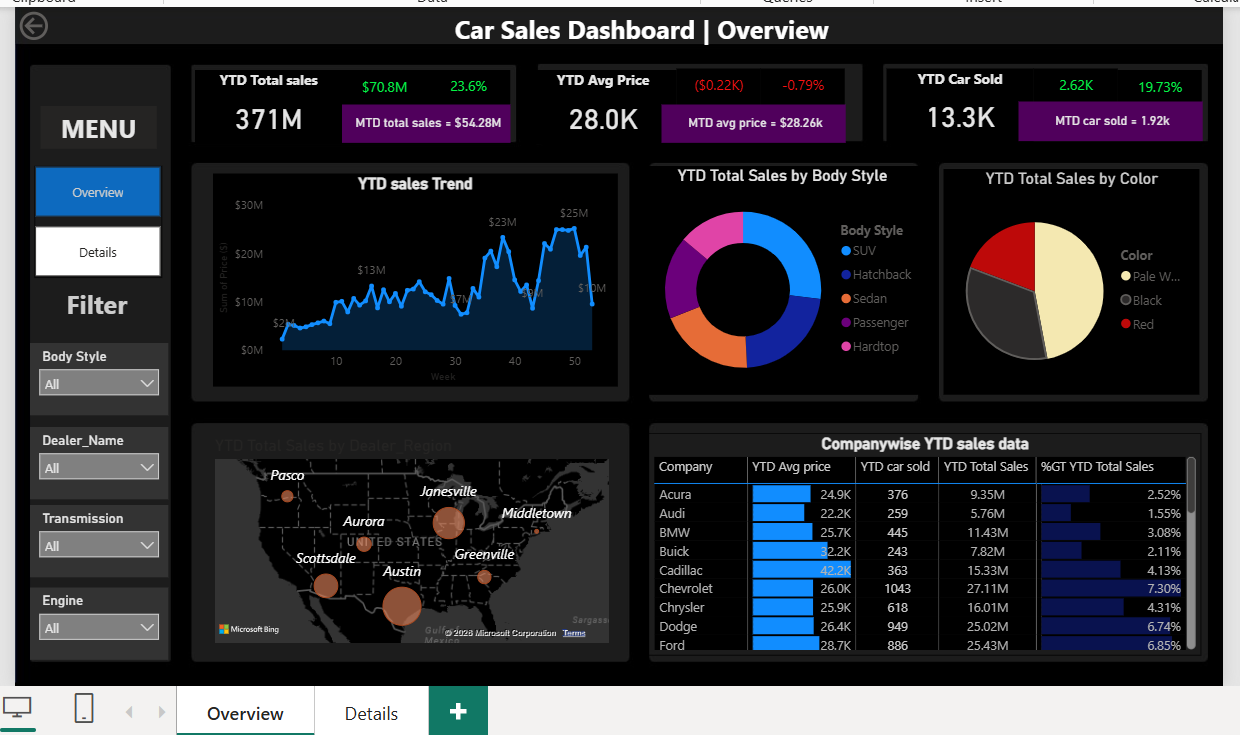

Layout of this report page (visuals, bound fields, positions):
{"tool":"powerbi","page":{"name":" Overview","canvas":[1280,720],"ordinal":0},"visuals":[{"type":"card","title":"YTD Total sales","fields":{"Values":["car_data.YTD Total Sales"]},"box":[190.3,66.7,156.1,78.1],"z":0},{"type":"card","fields":{"Values":["car_data.Sales Difference"]},"box":[346.5,66.7,89.5,39],"z":1000},{"type":"card","fields":{"Values":["car_data.YoY sales Growth"]},"box":[435.9,66.7,89.5,37.4],"z":2000},{"type":"card","fields":{"Values":["car_data.MTD"]},"box":[346.5,104.1,178.9,40.7],"z":3000},{"type":"card","title":"YTD Avg Price","fields":{"Values":["car_data.YTD Avg price"]},"box":[544.9,66.7,156.1,78.1],"z":4000},{"type":"card","fields":{"Values":["car_data.Price diffence"]},"box":[701,65.1,89.5,39],"z":5000},{"type":"card","fields":{"Values":["car_data.YoY avg price growth"]},"box":[790.5,65.1,89.5,39],"z":6000},{"type":"card","fields":{"Values":["car_data.MTD avg price kpi"]},"box":[684.8,104.1,195.2,40.7],"z":7000},{"type":"card","title":"YTD Car Sold","fields":{"Values":["car_data.YTD car sold"]},"box":[923.9,65.1,156.1,78.1],"z":8000},{"type":"card","fields":{"Values":["car_data.Car sold difference"]},"box":[1080,65.1,89.5,39],"z":9000},{"type":"card","fields":{"Values":["car_data.YoY car sold growth"]},"box":[1169.5,66.7,89.5,39],"z":10000},{"type":"card","fields":{"Values":["car_data.MTD car sold kpi"]},"box":[1063.8,100.8,195.2,42.3],"z":11000},{"type":"areaChart","title":"YTD sales Trend","fields":{"Category":["calender table.Week"],"Y":["Sum(car_data.Price ($))"]},"box":[209.8,177.3,429.4,226.1],"z":12000},{"type":"pieChart","fields":{"Category":["car_data.Color"],"Y":["car_data.YTD Total Sales"]},"box":[985.1,171.9,271.6,239.1],"z":14000},{"type":"actionButton","box":[0,0,100,40],"z":15000},{"type":"tableEx","title":"Companywise YTD sales data","fields":{"Values":["car_data.Company","car_data.YTD Avg price","car_data.YTD car sold","car_data.YTD Total Sales1","car_data.YTD Total Sales"]},"box":[671.2,452,586.9,236],"z":16000},{"type":"map","fields":{"Category":["car_data.Dealer_Region"],"Size":["car_data.YTD Total Sales"]},"box":[207.1,454.9,427.8,224.5],"z":17000},{"type":"textbox","box":[424.5,0,479.8,50.4],"z":18000},{"type":"slicer","fields":{"Values":["car_data.Body Style"]},"box":[16.3,356.2,146.4,76.4],"z":19000},{"type":"slicer","fields":{"Values":["car_data.Dealer_Name"]},"box":[15.7,444.6,146.4,76.4],"z":20000},{"type":"slicer","fields":{"Values":["car_data.Engine"]},"box":[16.3,615.4,146.4,76.4],"z":21000},{"type":"slicer","fields":{"Values":["car_data.Transmission"]},"box":[16.3,527.5,146.4,76.4],"z":22000},{"type":"textbox","box":[11.4,291.2,151.3,55.3],"z":23000},{"type":"pageNavigator","box":[21.1,169.2,135,118.7],"z":24000},{"type":"textbox","box":[27.7,105.7,123.6,45.5],"z":25000},{"type":"donutChart","fields":{"Y":["car_data.YTD Total Sales"],"Category":["car_data.Body Style"]},"box":[663.6,169.2,300.9,242.4],"z":25001}]}

Visuals, with their boxes on the page's 1280x720 design canvas (x1, y1, x2, y2). These are canvas units, not pixel positions in the 1240x735 screenshot, which may show the page scaled, cropped or inside an application window:
"YTD Total sales" card: BBox(190, 67, 346, 145)
card - car_data.Sales Difference: BBox(346, 67, 436, 106)
card - car_data.YoY sales Growth: BBox(436, 67, 525, 104)
card - car_data.MTD: BBox(346, 104, 525, 145)
"YTD Avg Price" card: BBox(545, 67, 701, 145)
card - car_data.Price diffence: BBox(701, 65, 790, 104)
card - car_data.YoY avg price growth: BBox(790, 65, 880, 104)
card - car_data.MTD avg price kpi: BBox(685, 104, 880, 145)
"YTD Car Sold" card: BBox(924, 65, 1080, 143)
card - car_data.Car sold difference: BBox(1080, 65, 1170, 104)
card - car_data.YoY car sold growth: BBox(1170, 67, 1259, 106)
card - car_data.MTD car sold kpi: BBox(1064, 101, 1259, 143)
"YTD sales Trend" areaChart: BBox(210, 177, 639, 403)
pieChart - car_data.Color x car_data.YTD Total Sales: BBox(985, 172, 1257, 411)
actionButton: BBox(0, 0, 100, 40)
"Companywise YTD sales data" tableEx: BBox(671, 452, 1258, 688)
map - car_data.Dealer_Region x car_data.YTD Total Sales: BBox(207, 455, 635, 679)
textbox: BBox(424, 0, 904, 50)
slicer - car_data.Body Style: BBox(16, 356, 163, 433)
slicer - car_data.Dealer_Name: BBox(16, 445, 162, 521)
slicer - car_data.Engine: BBox(16, 615, 163, 692)
slicer - car_data.Transmission: BBox(16, 528, 163, 604)
textbox: BBox(11, 291, 163, 346)
pageNavigator: BBox(21, 169, 156, 288)
textbox: BBox(28, 106, 151, 151)
donutChart - car_data.YTD Total Sales x car_data.Body Style: BBox(664, 169, 964, 412)
